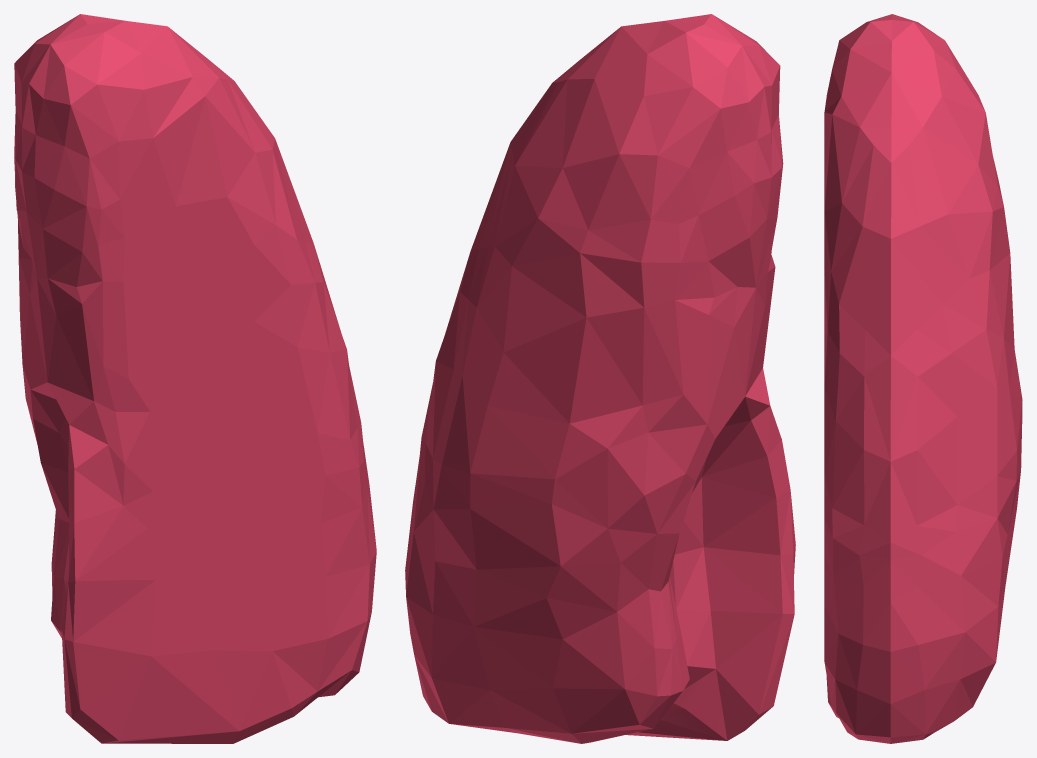
Rendered from Long_L.fbx.
The picture shows the model from 3 angles, left to right: view 1: azimuth 30°, elevation 25°; view 2: azimuth 150°, elevation 25°; view 3: azimuth 270°, elevation 25°; orthographic projection. The views are drawn at different scales.
Parts seen in each view (by area): view 1: polySurface1; view 2: polySurface1; view 3: polySurface1.
Boxes of the visible parts, x1,y1,x2,y2 form: polySurface1: (14, 14, 376, 743); polySurface1: (405, 14, 795, 743); polySurface1: (824, 14, 1022, 743).
Bounding box in the file's own units: 6.03 × 12 × 3.38.
